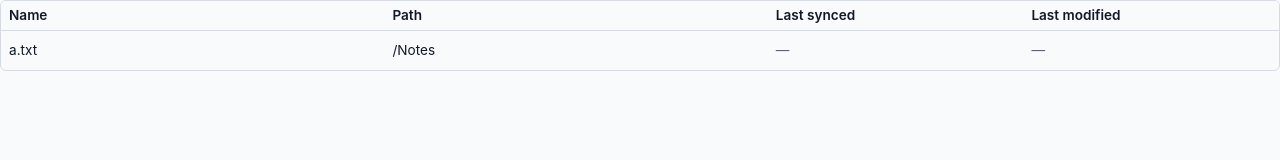
Test: DropboxRecentFiles row menu › Escape closes the menu and returns focus to the invoking row
This screenshot has width=1280, height=160.
Right-click the text "a.txt" at [23, 50], box [1, 30, 384, 70]
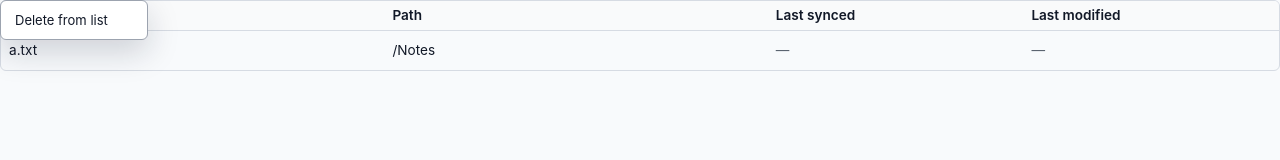
expect the menu item "Delete from list" is shown: met, box [5, 5, 143, 35]
Press Escape
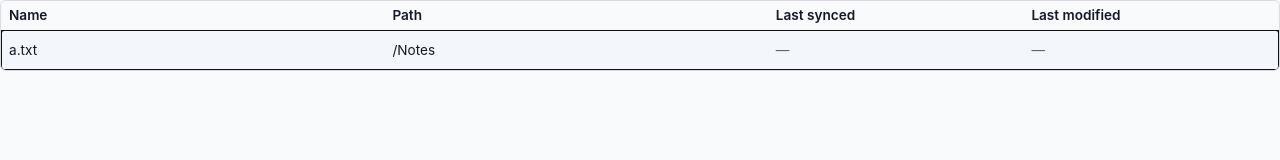
expect the menu item "Delete from list" is gone: met
